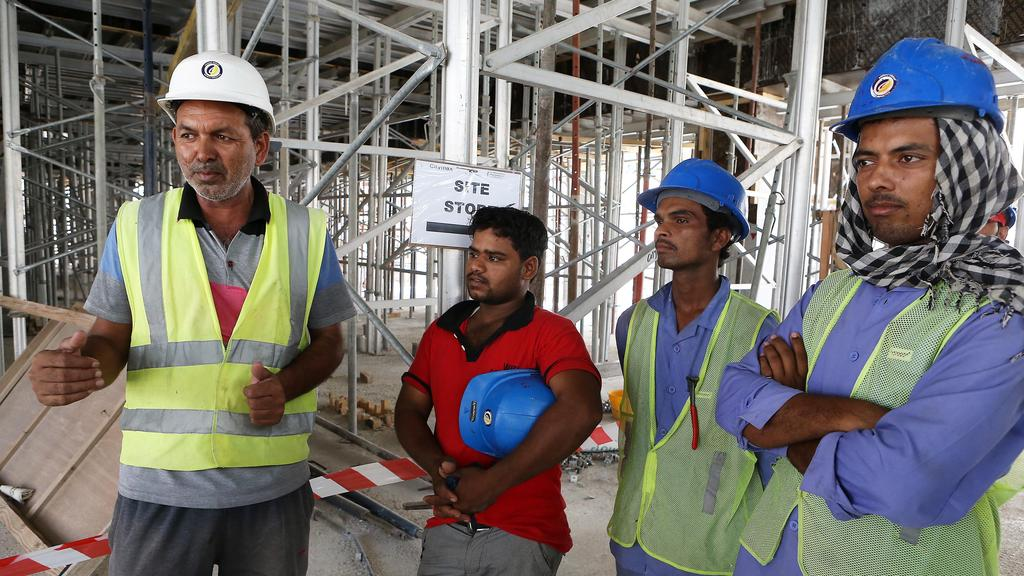Hard Hat: (824, 37, 1005, 138), (161, 51, 275, 118), (640, 157, 755, 221), (461, 366, 552, 445)
High Viz: (808, 259, 1001, 576), (123, 194, 311, 450), (633, 294, 740, 543)
